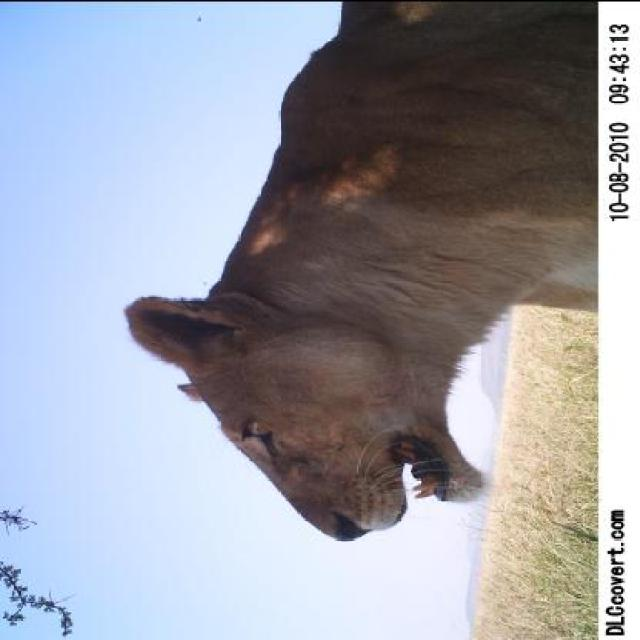Lion: (111, 1, 589, 548)
